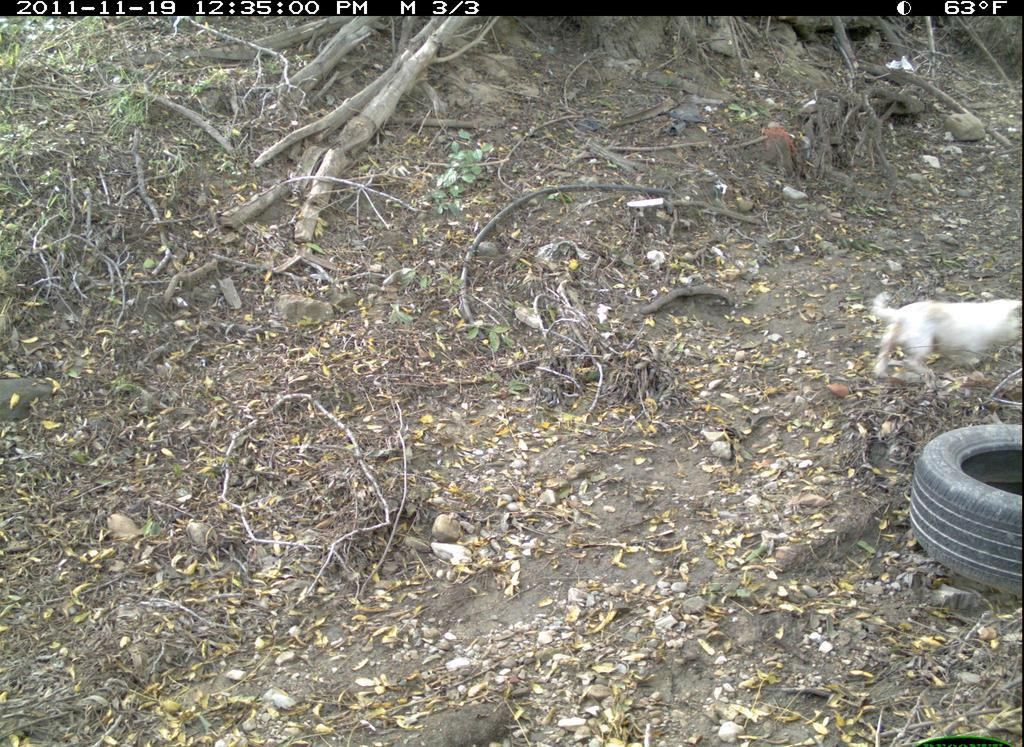dog: (866, 281, 1021, 387)
